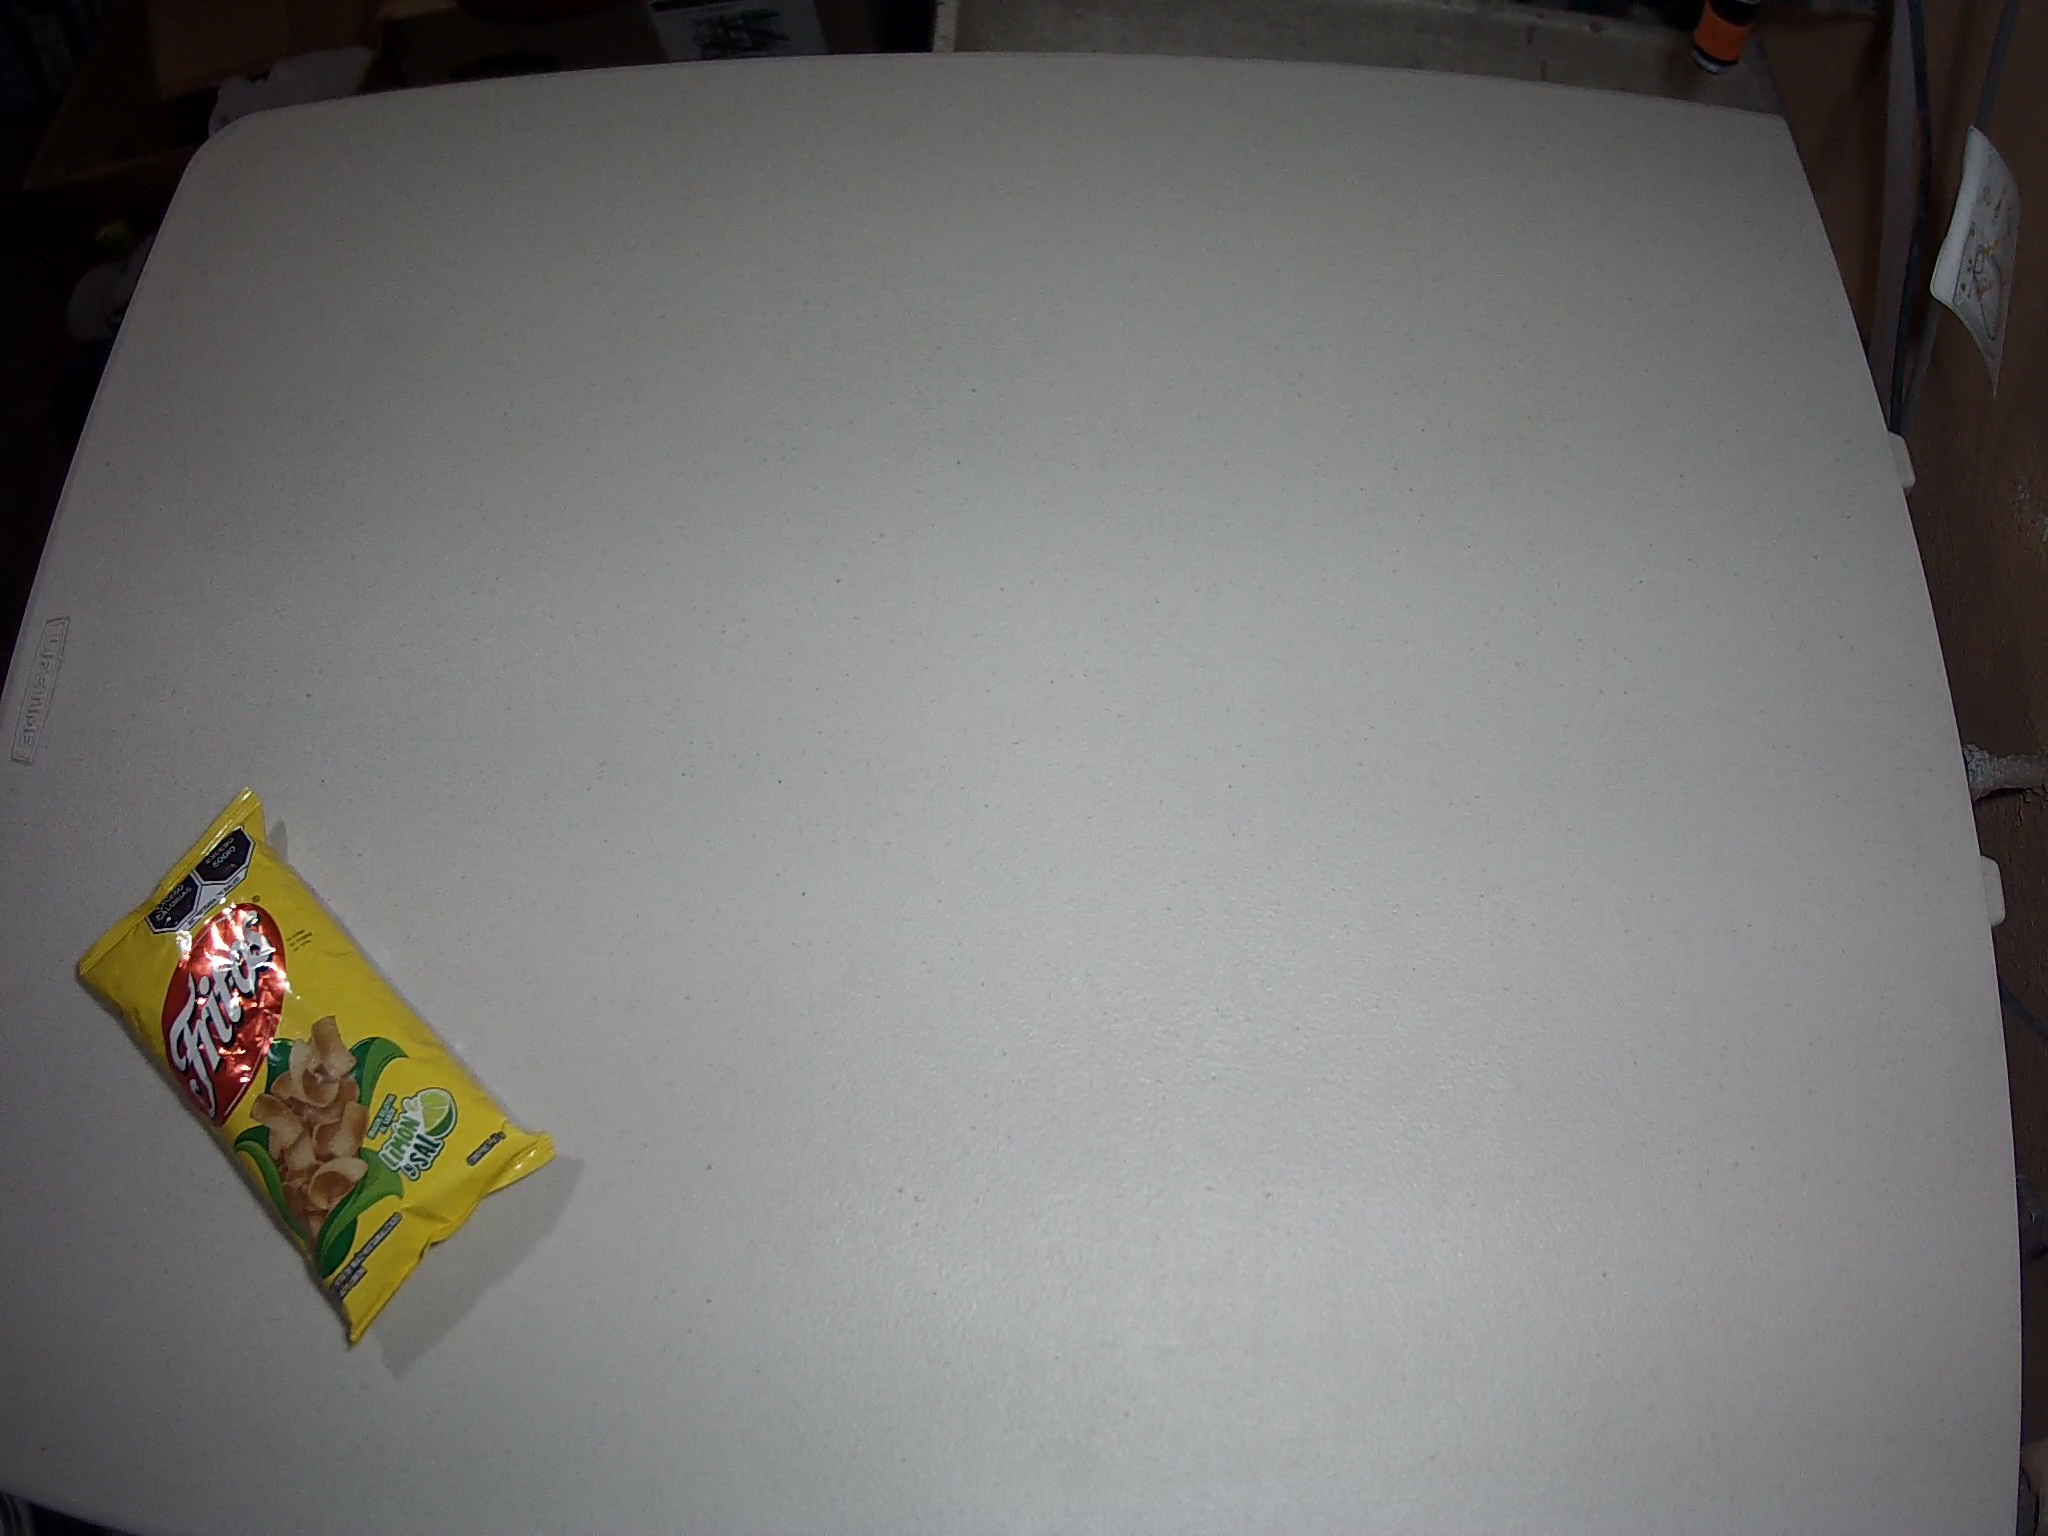FritosSalLimon_65_F: (77, 784, 560, 1347)
